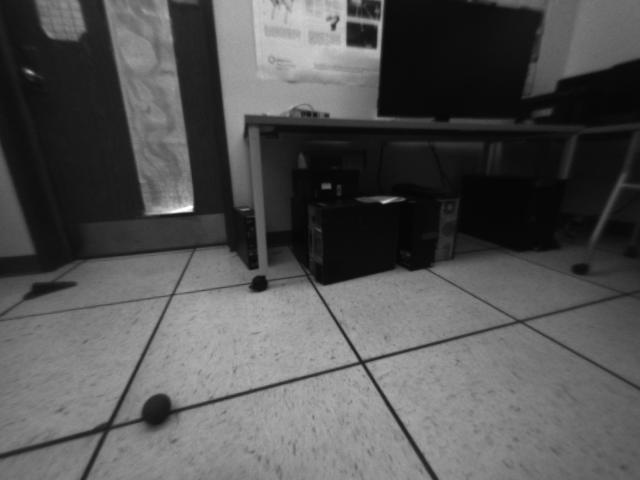dogtoy: (134, 385, 181, 435)
